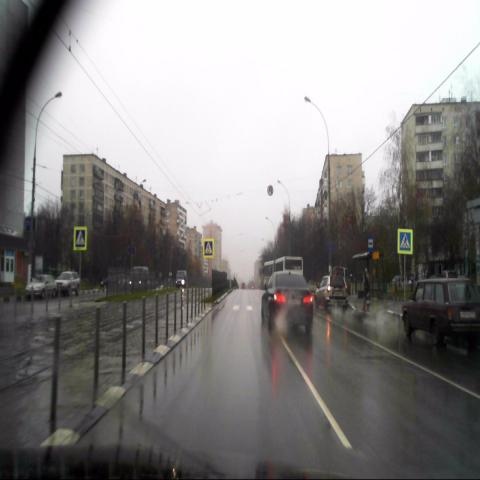3_19: (267, 185, 273, 196)
5_19_1: (398, 228, 412, 255), (73, 226, 86, 250), (208, 242, 218, 259)
